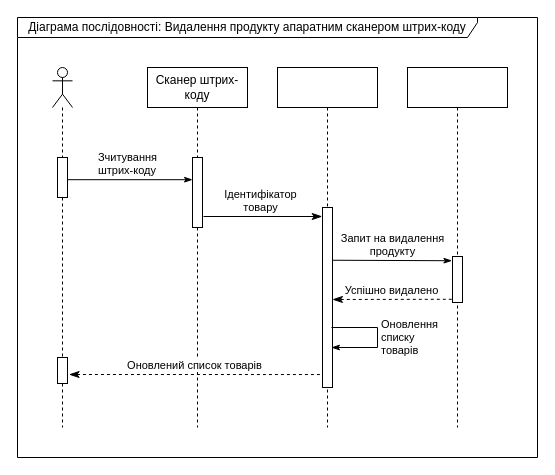
This 555x475 diagram has some shape labels left out. Each missing label, with the box of its shape:
База даних: (406, 66, 508, 428)
Веб-застосунок: (276, 66, 378, 428)
